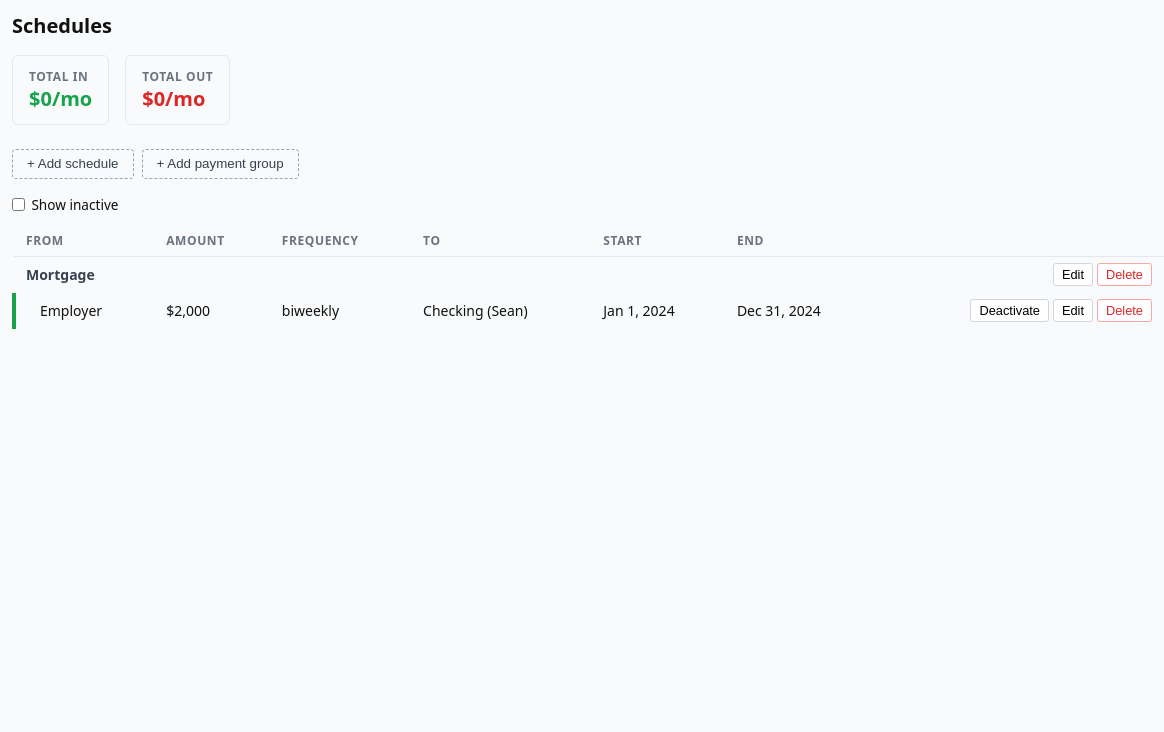
it: SchedulesView — Payment Groups › opens the standalone ScheduleForm with a locked source when a member row's Edit is clicked
The image size is (1164, 732).
Step 1. Click the button "Edit" in the row of "Employer" → [1073, 311], box [1053,299,1093,322]
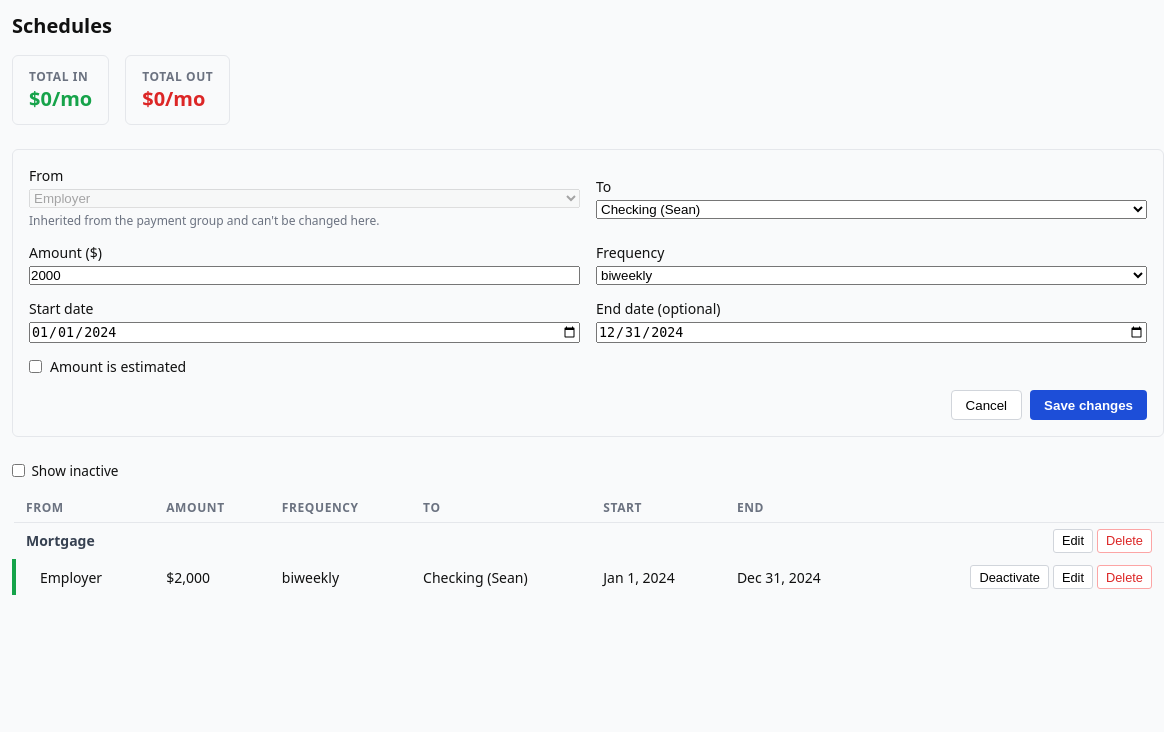
Check: the button "Save changes" is shown, box [1030,390,1147,420]
Check: the dropdown labelled "From" is disabled, box [29,189,580,208]
